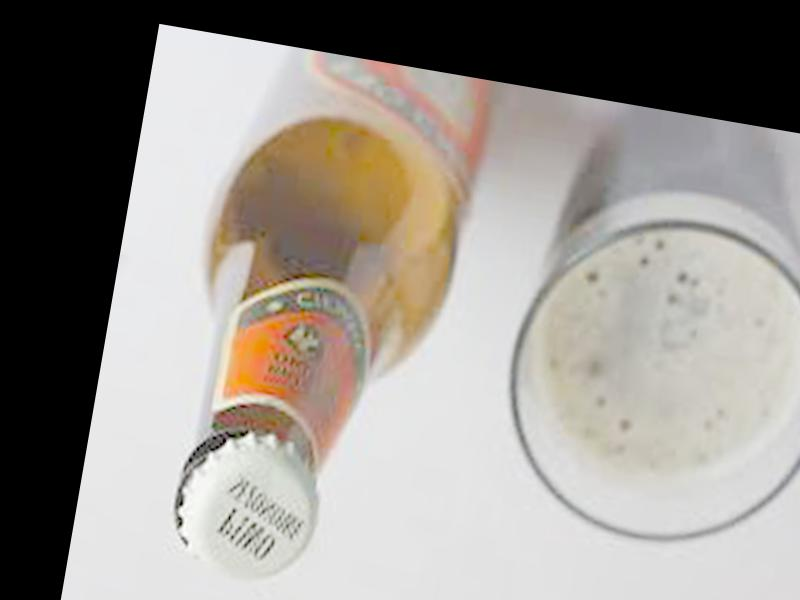Beer: (150, 37, 501, 600)
